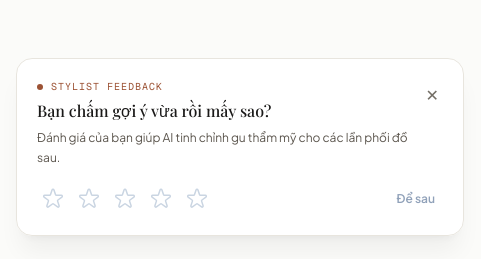
Test: RatingPrompt Component › displays error alert when rateOutfit fails and leaves prompt open for retry
Click the button named "Đánh giá 3 sao".
click(125, 199)  # box top-left (109, 183), bottom-right (141, 215)
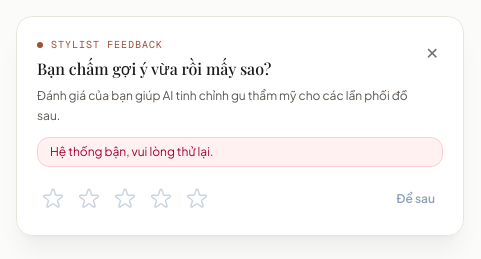
Check: the text "Hệ thống bận, vui lòng thử lại." is shown, box top-left (37, 137), bottom-right (443, 167)
